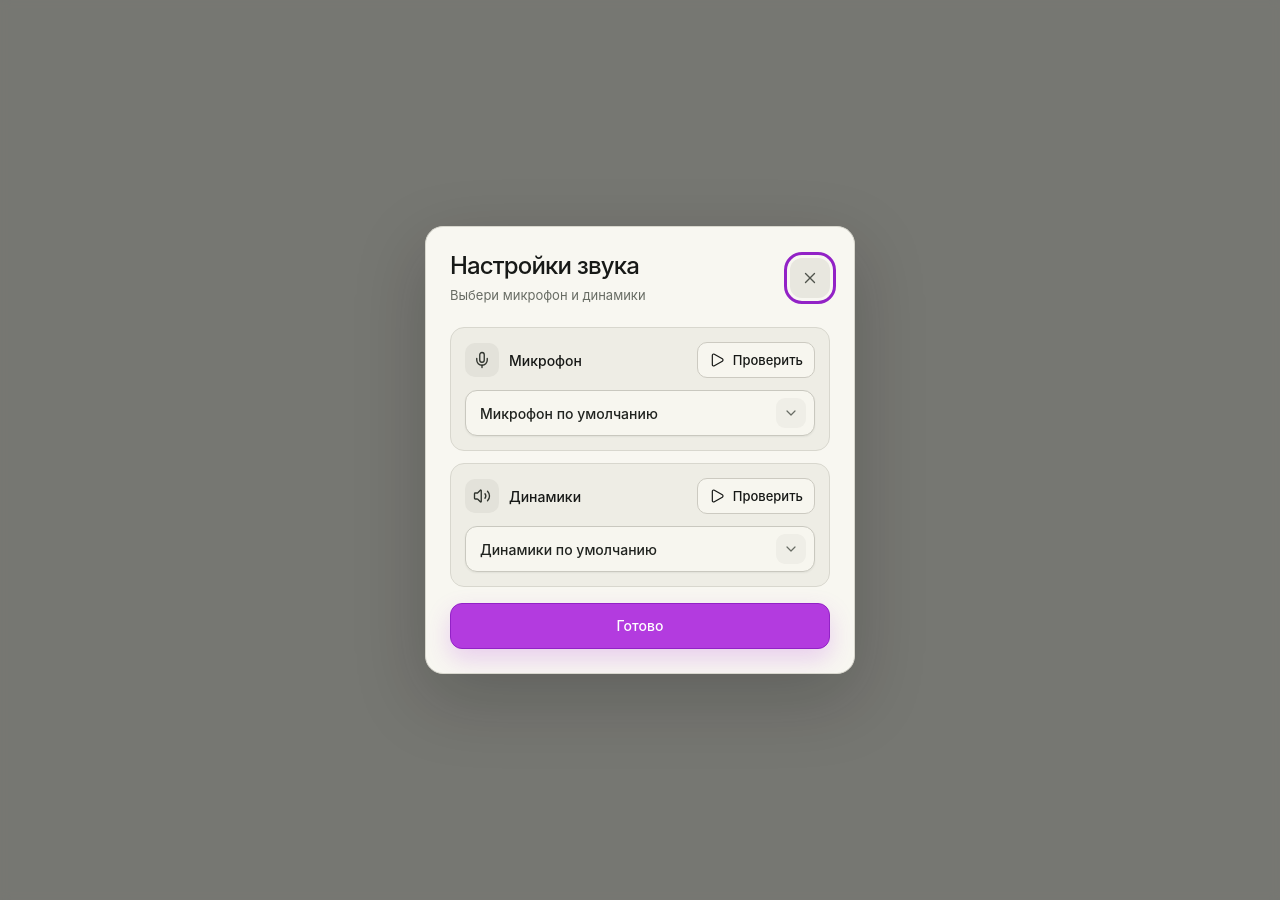
audio test controls › stops the speaker waveform and playback on close
Click the 2nd button "Проверить": (756,496) [697, 478, 815, 514]
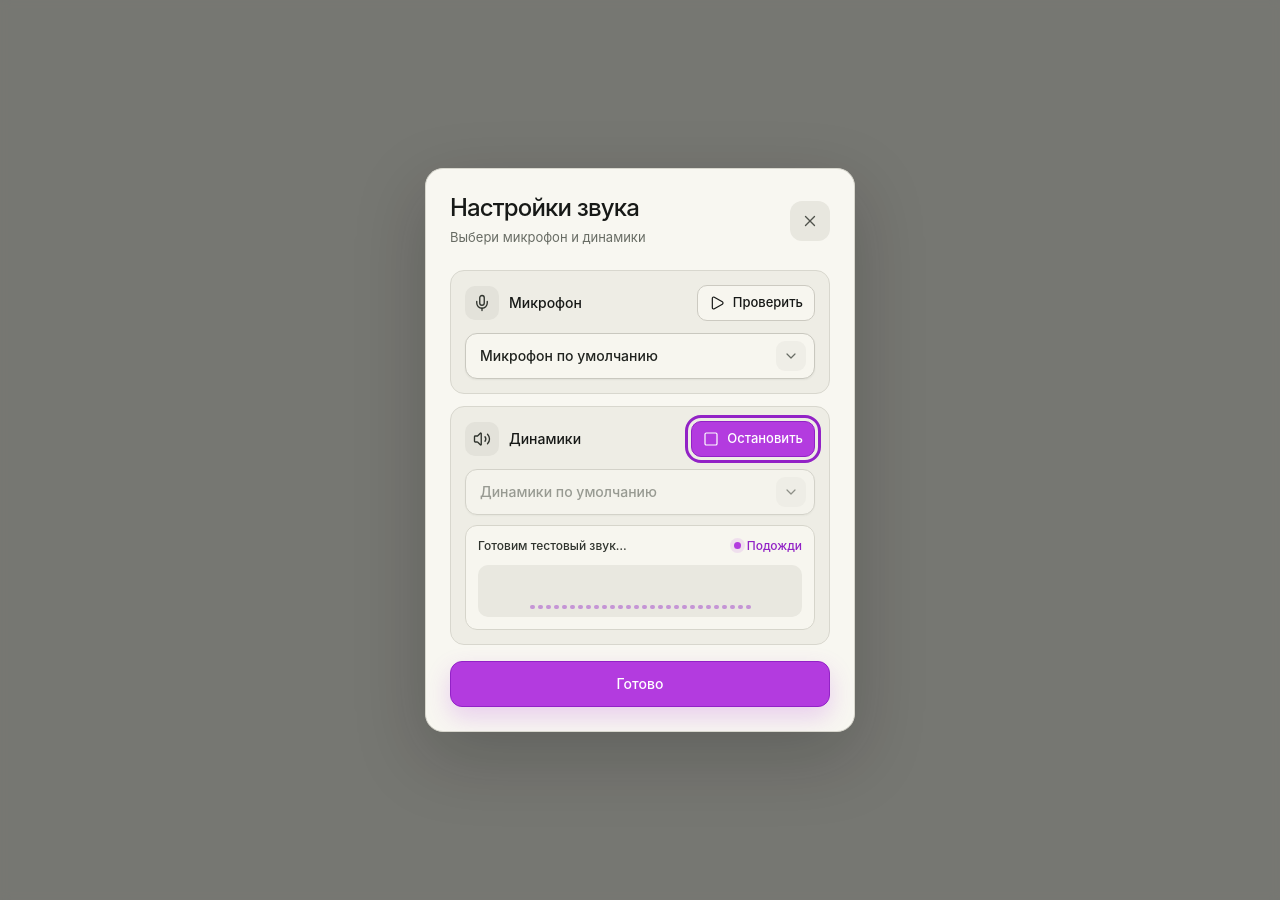
Result: the picture named "Тестовый звук" is shown at [478, 565, 802, 617]
